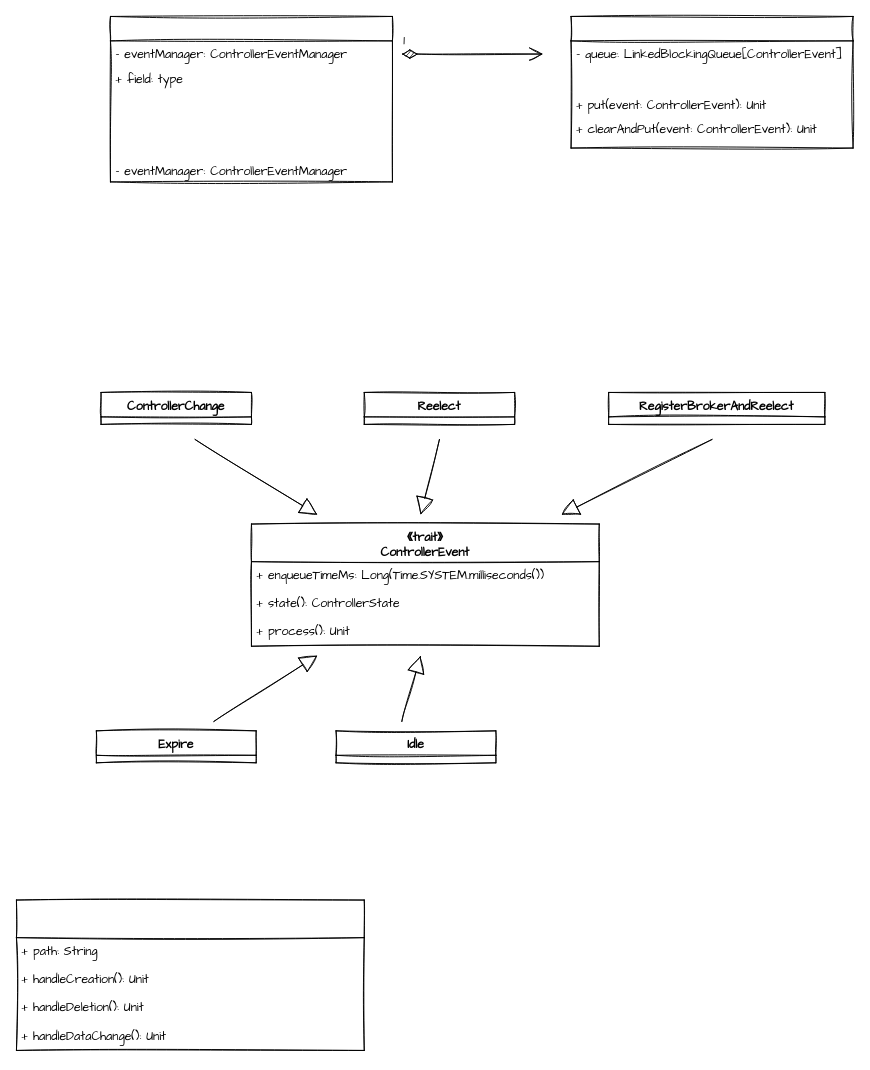
Image size: 870x1070. Some labels were removed from this diagram. The shapes that lost their labels are listed below. From the top down, each one's box as (x1, y1, x2, y2) in pixels, then its label:
(110, 16, 392, 182): KafkaController
(570, 16, 853, 148): ControllerEventManager
(16, 899, 364, 1050): 《trait》 ZNodeChangeHandler
